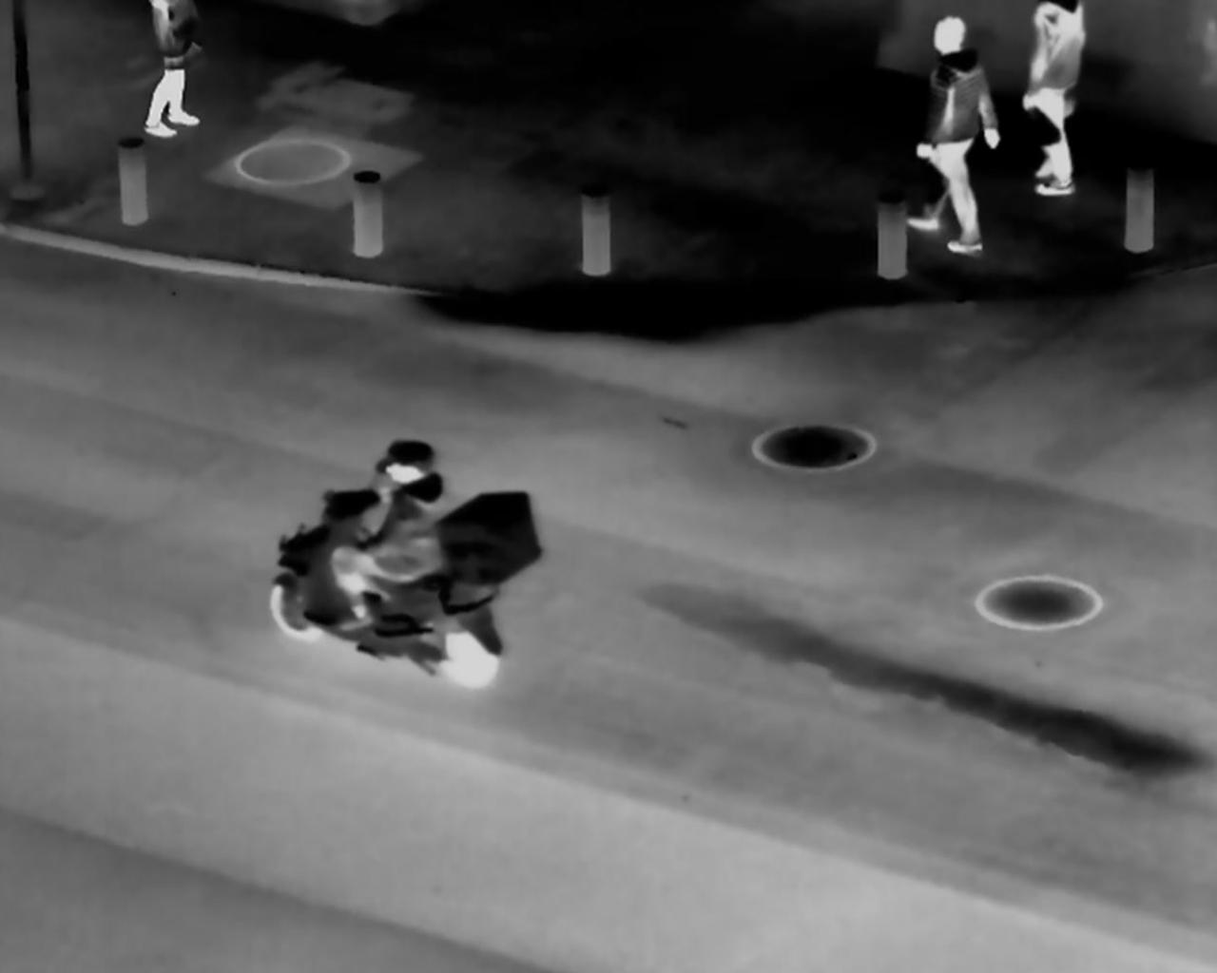person: (329, 429, 461, 647), (910, 10, 1003, 252), (132, 2, 208, 144)
